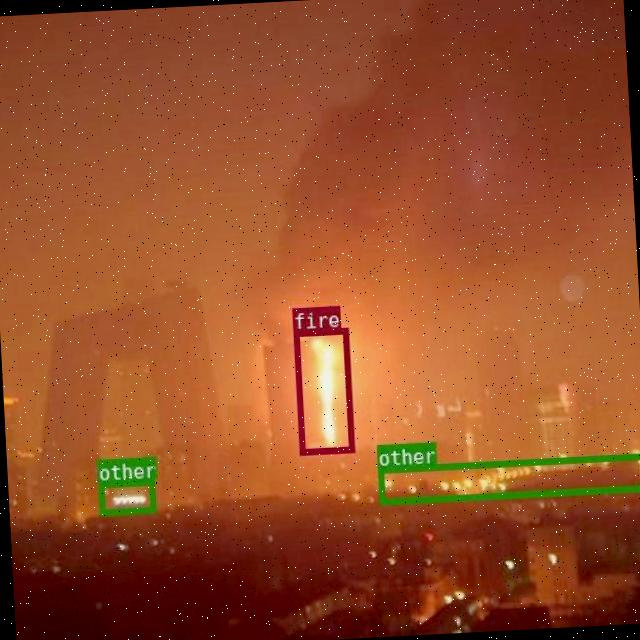fire: (292, 326, 353, 454)
